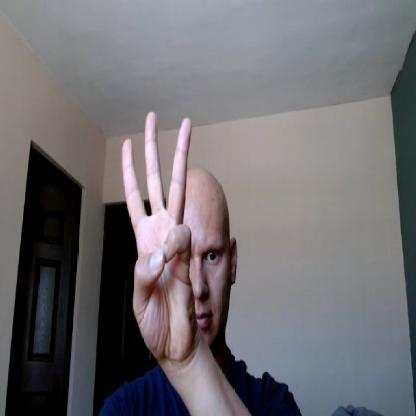W: (122, 111, 198, 354)
